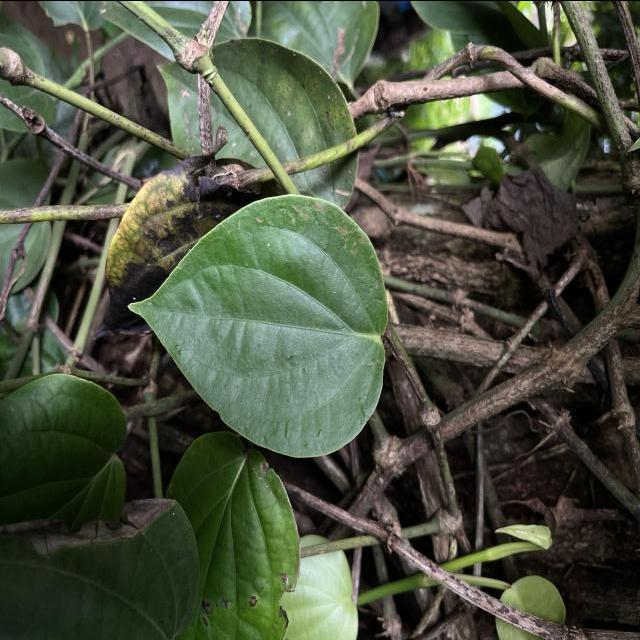Piper nigrum: (124, 192, 392, 459)
